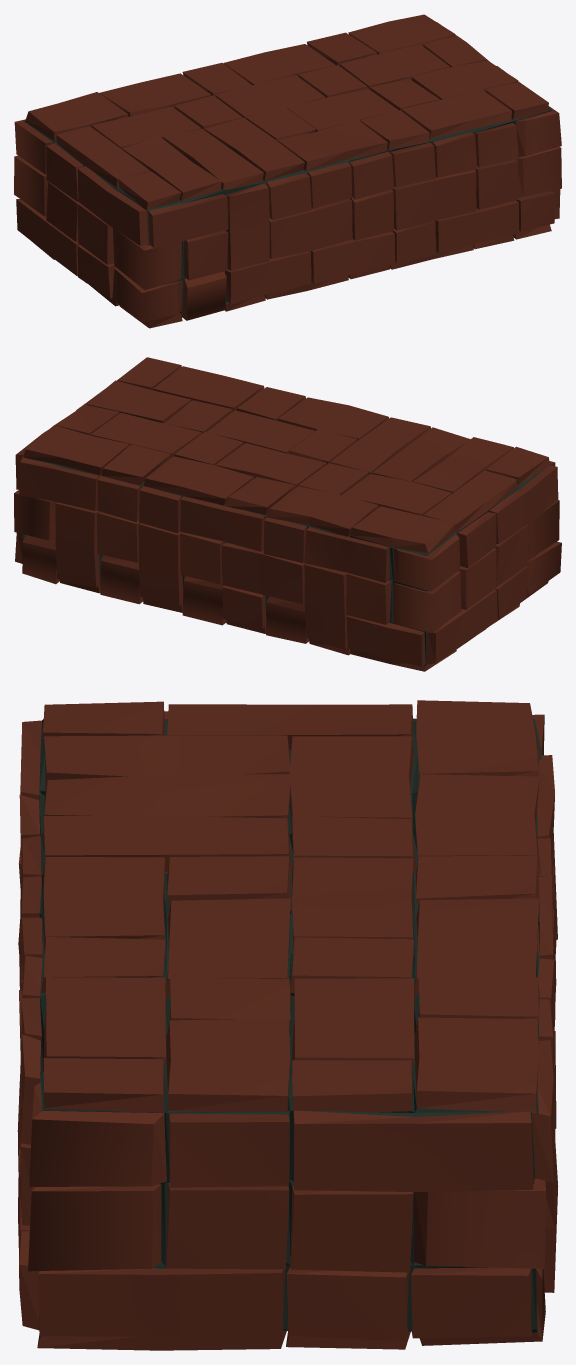
The model's file is i_flat_medium.FBX.
The picture shows the model from 3 angles, top to bottom: view 1: azimuth 30°, elevation 25°; view 2: azimuth 150°, elevation 25°; view 3: azimuth 270°, elevation 25°; orthographic projection. The views are drawn at different scales.
Parts seen in each view (by area): view 1: I_Flat_Large; view 2: I_Flat_Large; view 3: I_Flat_Large.
Part boxes in pixels (bbox=[...]): I_Flat_Large: bbox=[14, 14, 561, 328]; I_Flat_Large: bbox=[14, 357, 561, 671]; I_Flat_Large: bbox=[17, 700, 558, 1350].
Size of the model in its own units: 401 by 119 by 222.
